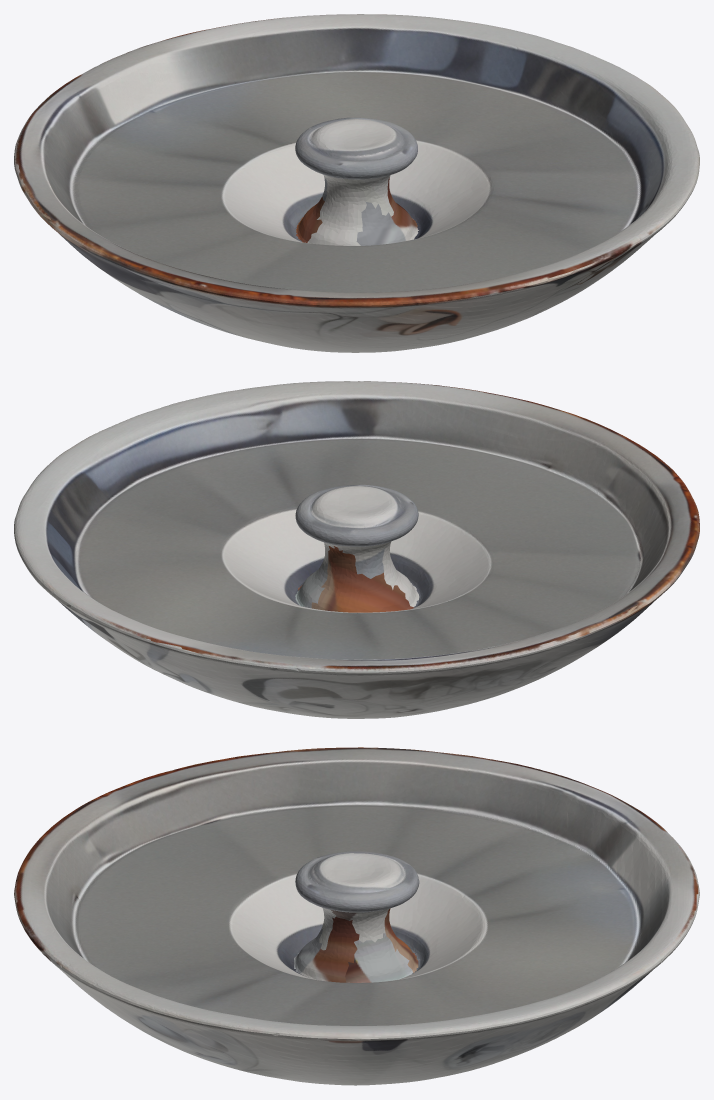
File: image_0002_segmented.glb
3 views of the same model, one above another, from view 1: azimuth 30°, elevation 25°; view 2: azimuth 150°, elevation 25°; view 3: azimuth 270°, elevation 25° (orthographic).
Parts seen in each view (by area): view 1: tmpg1bmmnlz.ply; view 2: tmpg1bmmnlz.ply; view 3: tmpg1bmmnlz.ply.
Boxes of the visible parts, left/top/right/bottom form: tmpg1bmmnlz.ply: left=14, top=14, right=699, bottom=352; tmpg1bmmnlz.ply: left=14, top=381, right=699, bottom=718; tmpg1bmmnlz.ply: left=14, top=747, right=699, bottom=1085.
Size of the model in its own units: 2 by 0.4593 by 1.99.
Materials: 1 (1 with a texture image).
